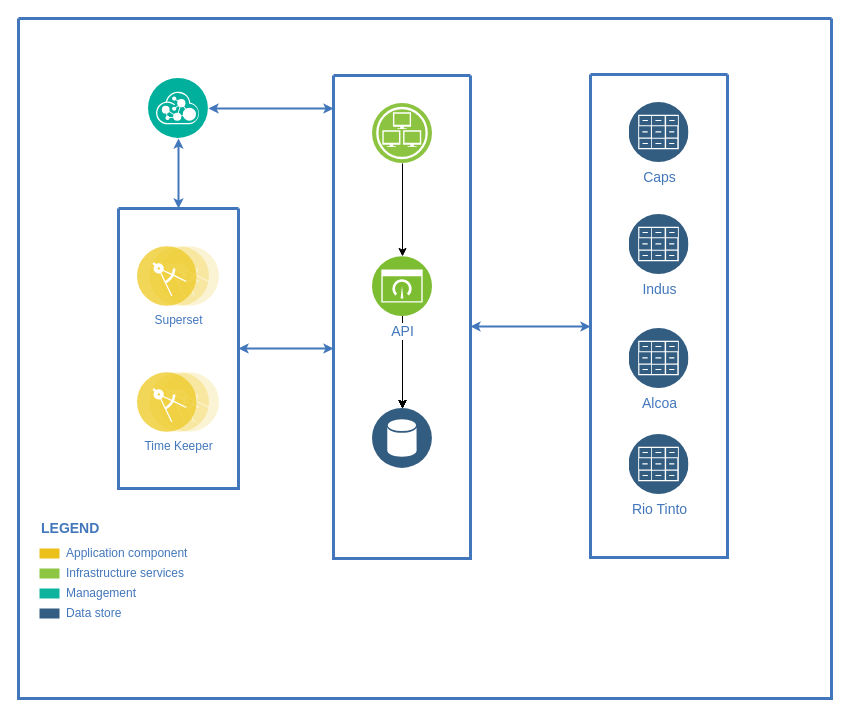
The diagram is 850 pixels wide and 717 high, and some of its shapes have lost their labels. The shapes that lost their labels are listed below. From the top down, each one's centre as x and y in pixels, then its label:
At (178,108): "Data Filtering".
At (402,133): "FrontEnd - Portal".
At (402,438): "Database".
